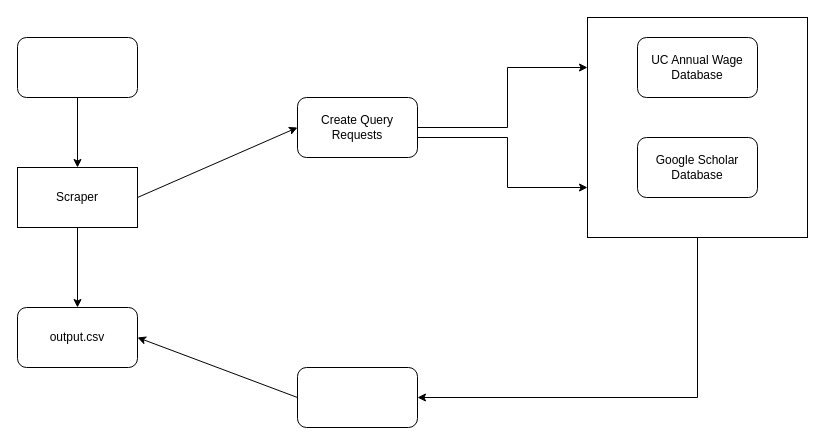
Image size: 825x445. Some labels were removed from this diagram. Here are the shapes that lost their labels. From the top down, the centre of each, then its label:
the point at 77,67: input.csv
the point at 357,397: Return Query Responses
